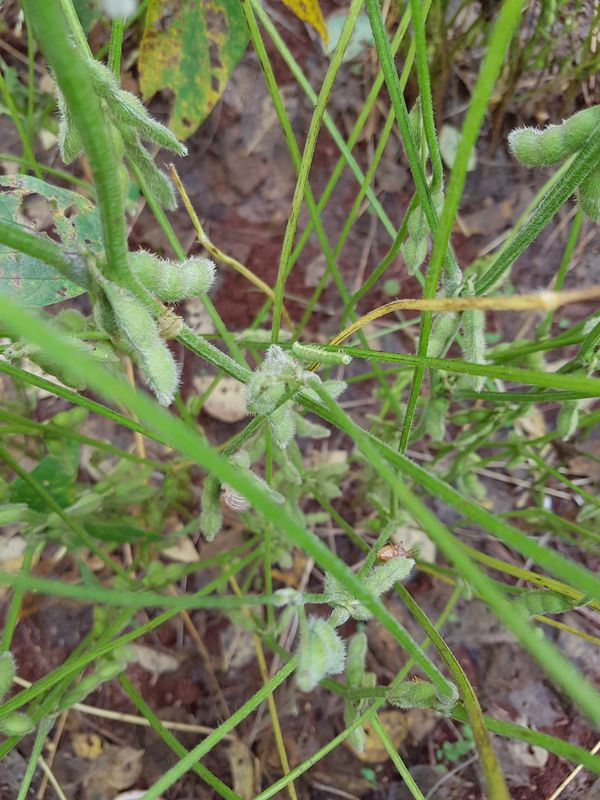Anticarsia_gemmatalis: (286, 334, 356, 376)
Euschistus_heros_ninfa: (145, 302, 189, 345)
